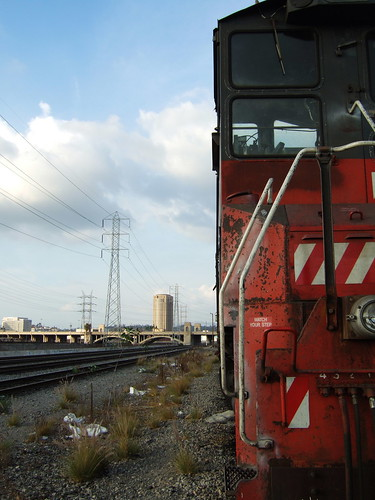bridge: (38, 322, 221, 348)
building: (152, 291, 174, 332)
sky: (1, 1, 226, 318)
train: (209, 7, 375, 500)
train track: (1, 325, 200, 438)
